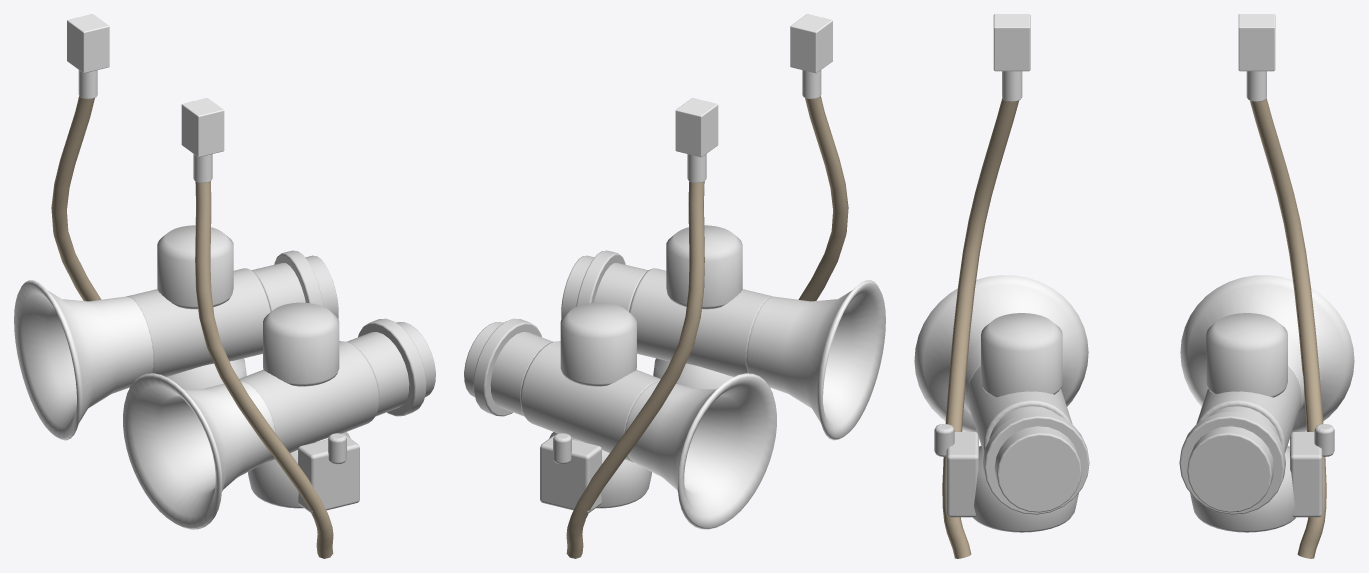
The model's file is bike_cafe_racer__carb.glb.
The picture shows the model from 3 angles, left to right: view 1: azimuth 30°, elevation 25°; view 2: azimuth 150°, elevation 25°; view 3: azimuth 270°, elevation 25°; orthographic projection. The views are drawn at different scales.
Visible parts, largest first — view 1: powertrain__intake__carburettors, powertrain__intake__bellmouths, powertrain__fuel_system__lines, powertrain__intake__manifolds, powertrain__fuel_system__taps; view 2: powertrain__intake__carburettors, powertrain__intake__bellmouths, powertrain__fuel_system__lines, powertrain__intake__manifolds, powertrain__fuel_system__taps; view 3: powertrain__intake__carburettors, powertrain__intake__bellmouths, powertrain__intake__manifolds, powertrain__fuel_system__lines, powertrain__fuel_system__taps.
Boxes of the visible parts, <box> form: powertrain__intake__carburettors: <box>126,225,379,513</box>; powertrain__intake__bellmouths: <box>14,280,275,529</box>; powertrain__fuel_system__lines: <box>51,96,333,558</box>; powertrain__intake__manifolds: <box>252,250,435,416</box>; powertrain__fuel_system__taps: <box>67,14,224,183</box>; powertrain__intake__carburettors: <box>520,225,773,513</box>; powertrain__intake__bellmouths: <box>624,280,885,529</box>; powertrain__fuel_system__lines: <box>566,96,848,558</box>; powertrain__intake__manifolds: <box>464,250,647,416</box>; powertrain__fuel_system__taps: <box>675,14,832,183</box>; powertrain__intake__carburettors: <box>934,313,1334,532</box>; powertrain__intake__bellmouths: <box>914,275,1354,432</box>; powertrain__intake__manifolds: <box>983,406,1285,514</box>; powertrain__fuel_system__lines: <box>942,98,1326,558</box>; powertrain__fuel_system__taps: <box>993,14,1275,101</box>.
Bounding box in the file's own units: 16.53 × 26.33 × 21.58.
